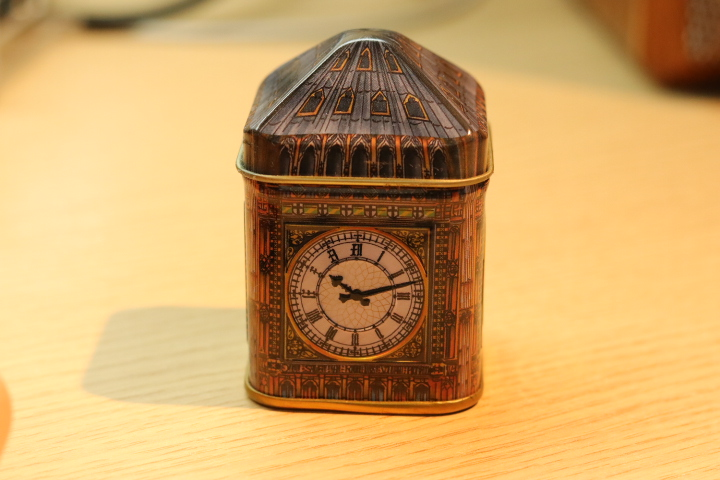Big Ben: (227, 14, 528, 426)
